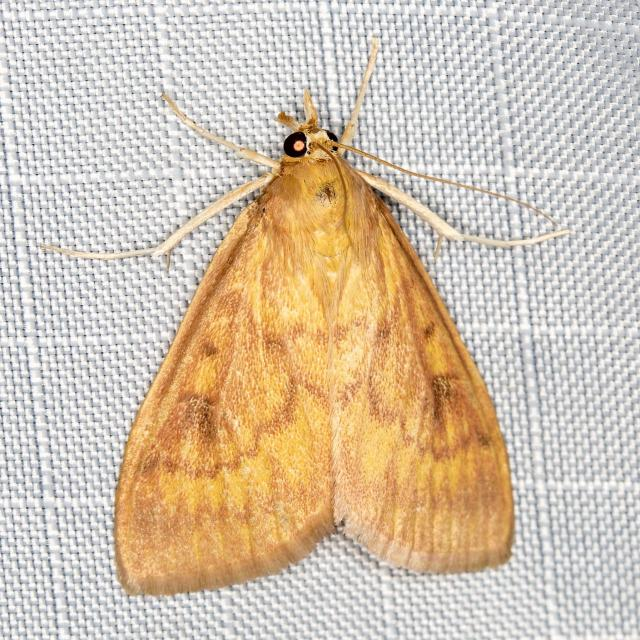cornborer-Adult-: (11, 32, 574, 601)
